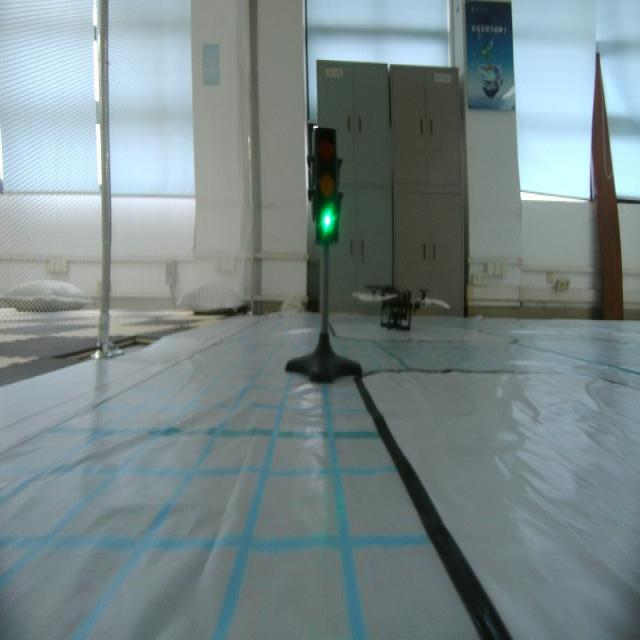green: (307, 124, 345, 245)
